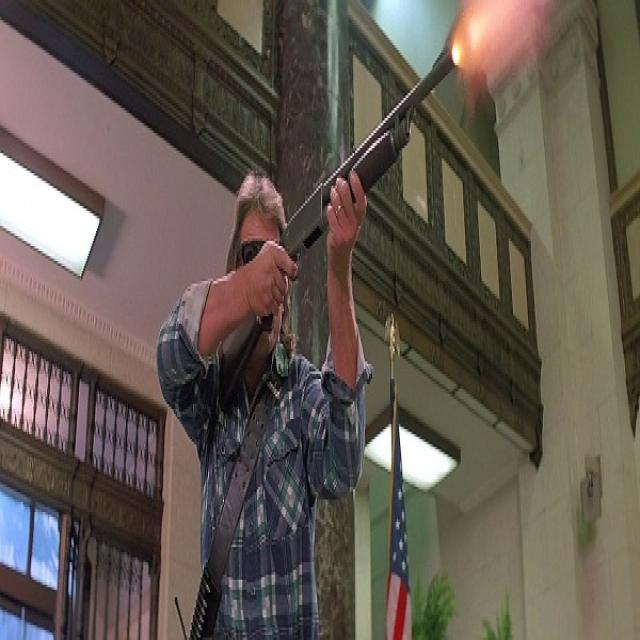rifle: (220, 50, 465, 415)
